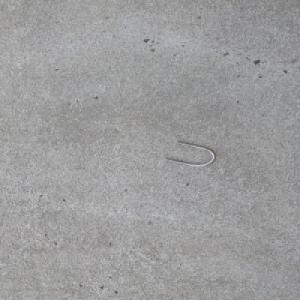ClampPart: (164, 140, 218, 167)
